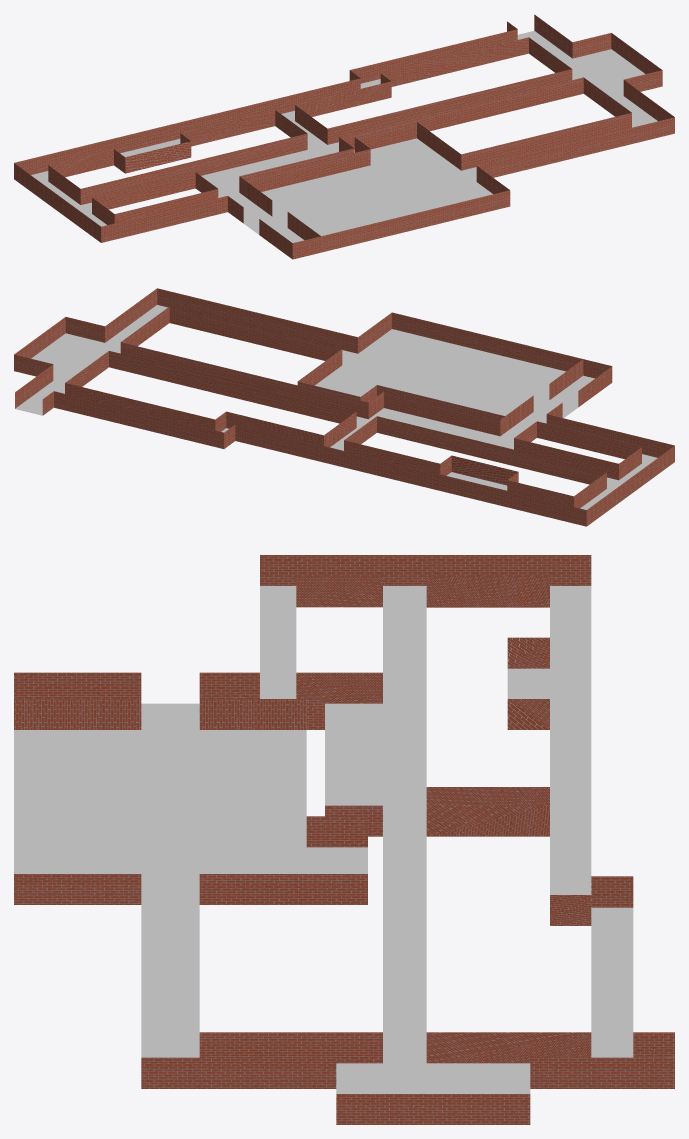
File: nekennahka (4).fbx
3 views of the same model, one above another, from view 1: azimuth 30°, elevation 25°; view 2: azimuth 150°, elevation 25°; view 3: azimuth 270°, elevation 25° (orthographic). The views are drawn at different scales.
Parts seen in each view (by area): view 1: seinä's, floor; view 2: seinä's, floor; view 3: floor, seinä's.
Boxes of the visible parts, x1,y1,x2,y2 form: seinä's: (14,14,674,259); floor: (31,30,657,242); seinä's: (14,288,674,526); floor: (15,305,657,509); floor: (14,586,633,1093); seinä's: (14,555,674,1124).
Size of the model in its own units: 6140 by 165 by 3183.
